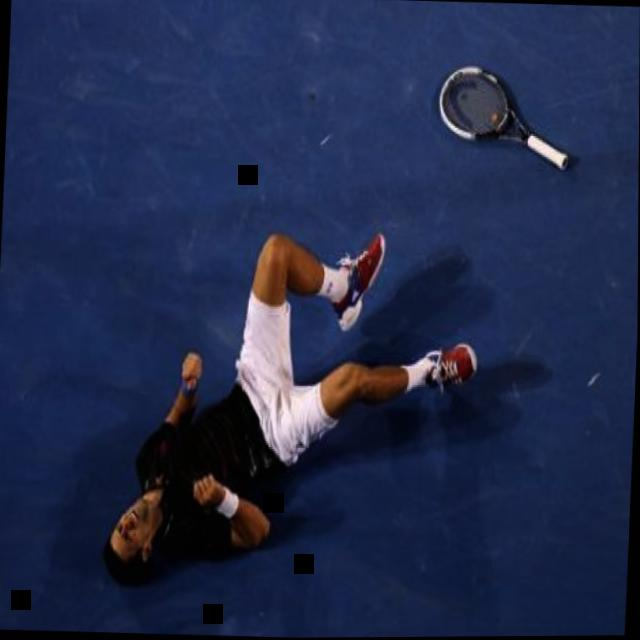Fall-Detected: (90, 200, 493, 591)
